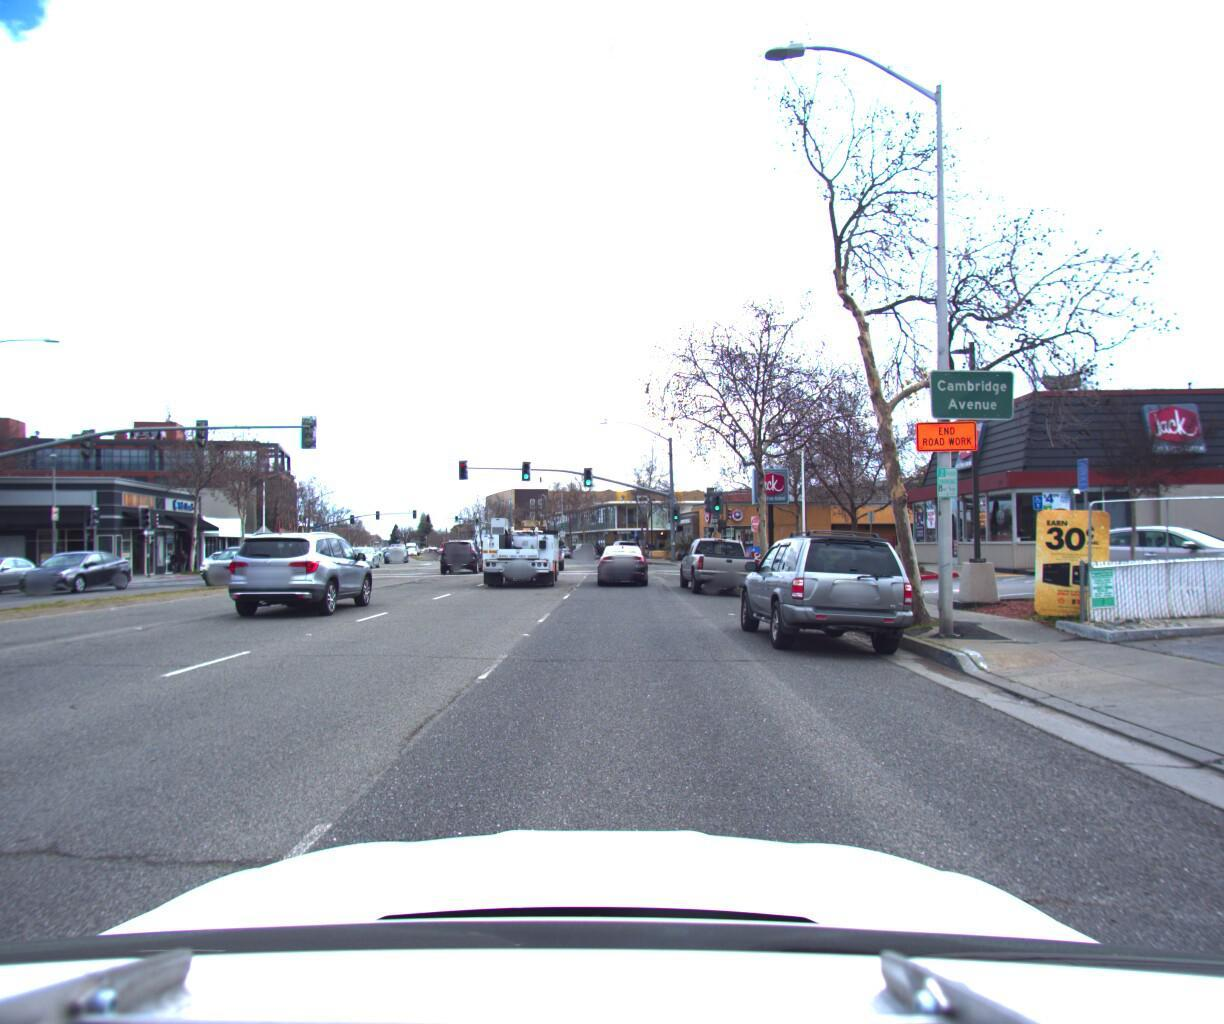car: (725, 514, 919, 664), (1027, 513, 1224, 592), (221, 521, 378, 616), (6, 545, 144, 595), (671, 526, 761, 591), (189, 537, 280, 579), (591, 537, 654, 583), (0, 549, 61, 593), (437, 532, 490, 568), (193, 541, 254, 569), (340, 536, 386, 560), (568, 532, 595, 550), (0, 548, 2, 587)
truck: (472, 502, 568, 584)
